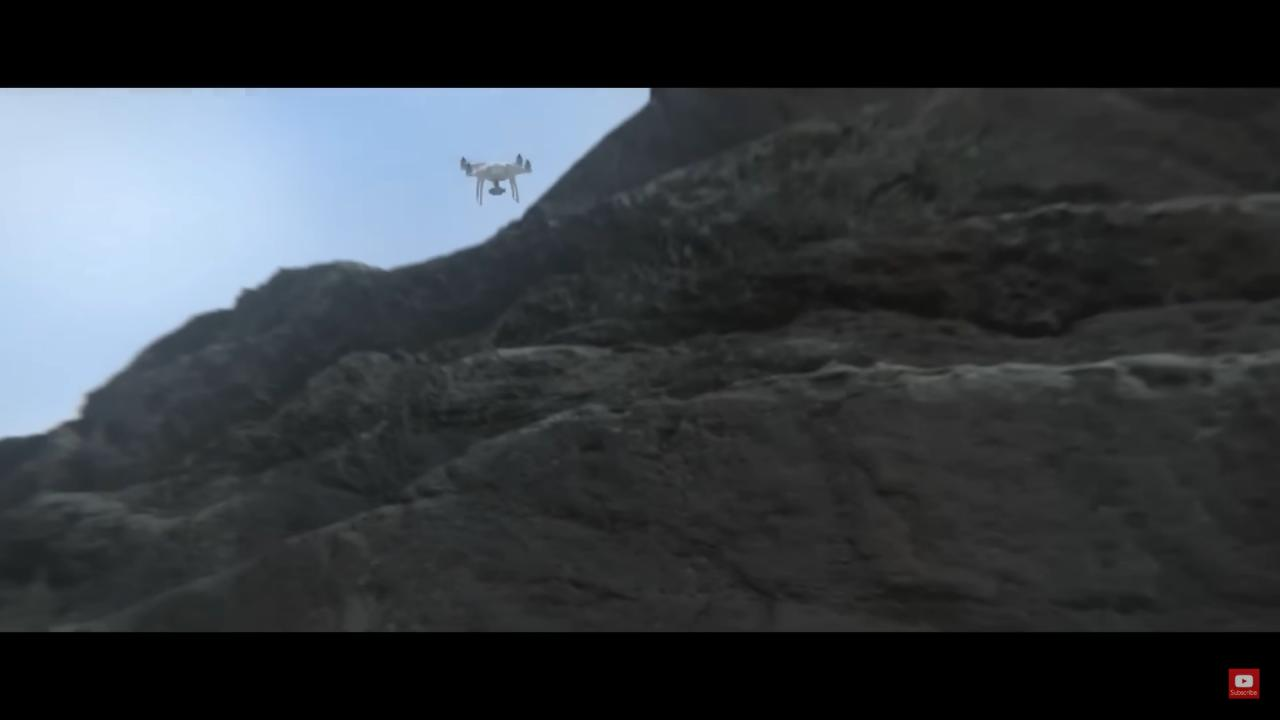Drone: (447, 145, 544, 212)
